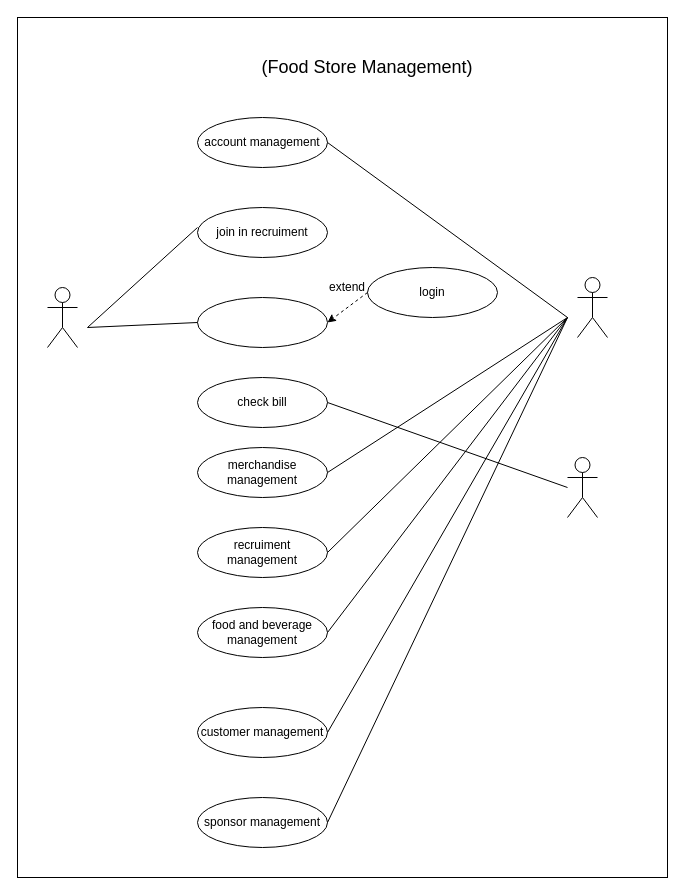
This 685x895 diagram has some shape labels left out. Here are the shapes that lost their labels. From the top down, the centre of each, then its label:
At point 62,317: "customer".
At point 262,322: "order food".
At point 592,307: "manager".
At point 582,487: "cashier".
